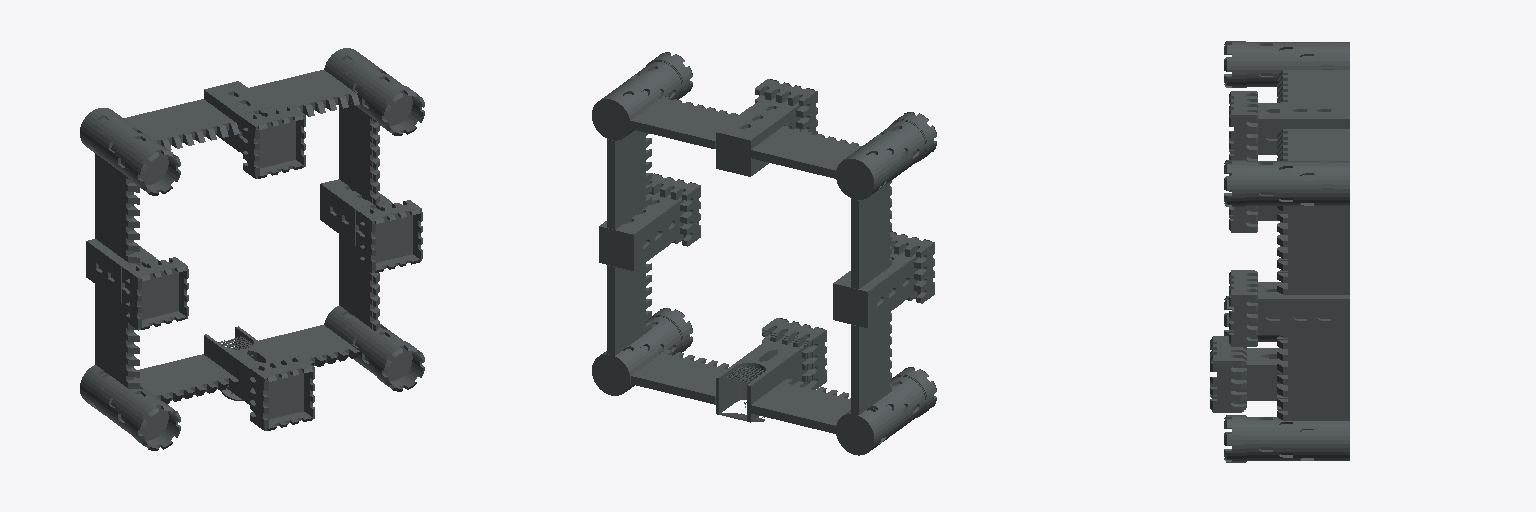
The model's file is castle.obj.
3 renders of one model, left to right at view 1: azimuth 30°, elevation 25°; view 2: azimuth 150°, elevation 25°; view 3: azimuth 270°, elevation 25°, orthographic.
Visible parts, largest first — view 1: obj_0; view 2: obj_0; view 3: obj_0.
Boxes of the visible parts, x1,y1,x2,y2 form: obj_0: [80, 48, 424, 450]; obj_0: [592, 52, 936, 455]; obj_0: [1210, 41, 1349, 462].
Size of the model in its own units: 180 by 185 by 76.19.